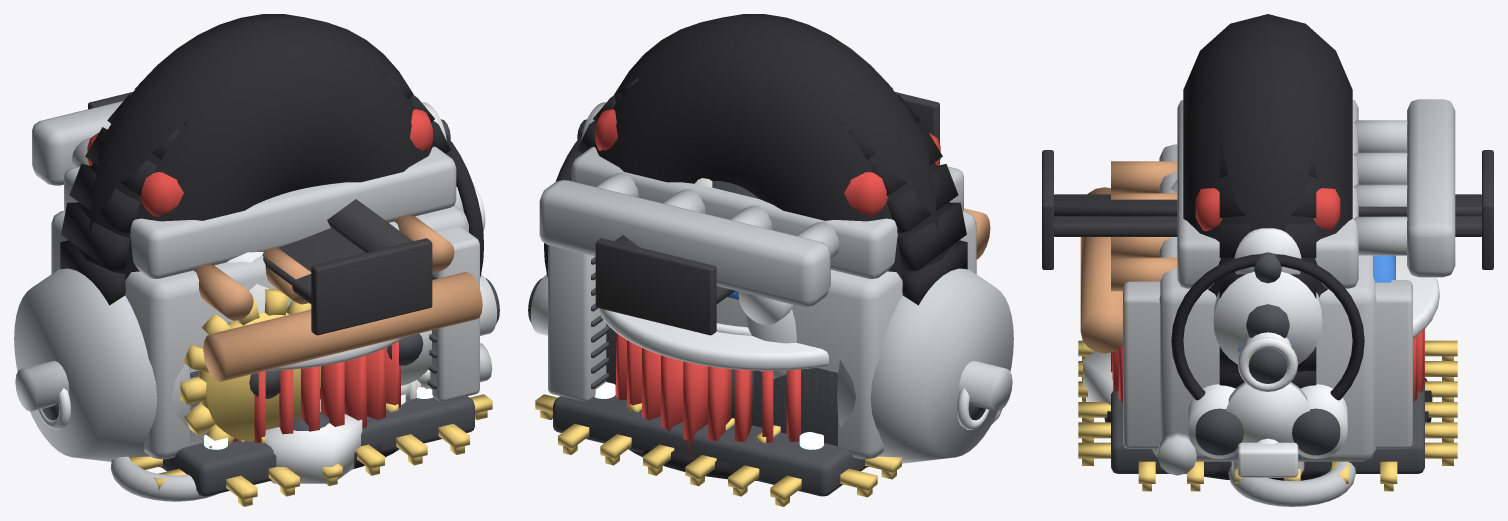
Rendered from parts.fbx.
3 renders of one model, left to right at view 1: azimuth 30°, elevation 25°; view 2: azimuth 150°, elevation 25°; view 3: azimuth 270°, elevation 25°, orthographic.
Parts seen in each view (by area): view 1: Rubber.003, Metal.002, Metal.007, Copper, Carbon, Rubber, Accent.001, Dark.008, Gold, Metal.011, Gold.001, Chrome (+10 smaller); view 2: Rubber.003, Metal.002, Metal.007, Accent.001, Dark.008, Carbon, Rubber, Metal.011, Chrome.005, Gold.001, Dark.004, Accent (+9 smaller); view 3: Metal.002, Rubber.003, Metal.011, Carbon, Copper, Gold.001, Chrome.002, Rubber, Rubber.001, Dark.008, Dark.012, Chrome.006 (+13 smaller).
Boxes of the visible parts, bbox=[...] form: Rubber.003: bbox=[76, 14, 433, 294]; Metal.002: bbox=[32, 100, 468, 459]; Metal.007: bbox=[14, 268, 190, 461]; Copper: bbox=[194, 215, 482, 381]; Carbon: bbox=[88, 92, 432, 335]; Rubber: bbox=[60, 73, 456, 305]; Accent.001: bbox=[232, 341, 400, 442]; Dark.008: bbox=[160, 396, 474, 496]; Gold: bbox=[180, 289, 320, 448]; Metal.011: bbox=[430, 227, 479, 401]; Gold.001: bbox=[129, 394, 492, 506]; Chrome: bbox=[265, 394, 405, 483]; Rubber.003: bbox=[594, 14, 951, 294]; Metal.002: bbox=[539, 146, 976, 459]; Metal.007: bbox=[837, 268, 1013, 463]; Accent.001: bbox=[616, 332, 800, 454]; Dark.008: bbox=[553, 392, 867, 496]; Carbon: bbox=[595, 92, 939, 335]; Rubber: bbox=[577, 73, 967, 305]; Metal.011: bbox=[548, 245, 606, 401]; Chrome.005: bbox=[599, 308, 828, 370]; Gold.001: bbox=[535, 394, 901, 506]; Dark.004: bbox=[606, 323, 864, 465]; Accent: bbox=[595, 109, 940, 216]; Metal.002: bbox=[1159, 99, 1455, 461]; Rubber.003: bbox=[1183, 14, 1352, 372]; Metal.011: bbox=[1123, 280, 1412, 448]; Carbon: bbox=[1042, 150, 1493, 269]; Copper: bbox=[1080, 161, 1177, 353]; Gold.001: bbox=[1078, 340, 1457, 491]; Chrome.002: bbox=[1213, 228, 1322, 364]; Rubber: bbox=[1219, 132, 1316, 388]; Rubber.001: bbox=[1171, 254, 1364, 400]; Dark.008: bbox=[1111, 384, 1424, 473]; Dark.012: bbox=[1195, 408, 1340, 455]; Chrome.006: bbox=[1226, 382, 1309, 448].
Bounding box in the file's own units: 4.3 × 3.78 × 3.74.
